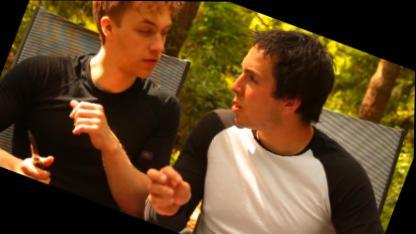knife: (6, 121, 72, 186)
